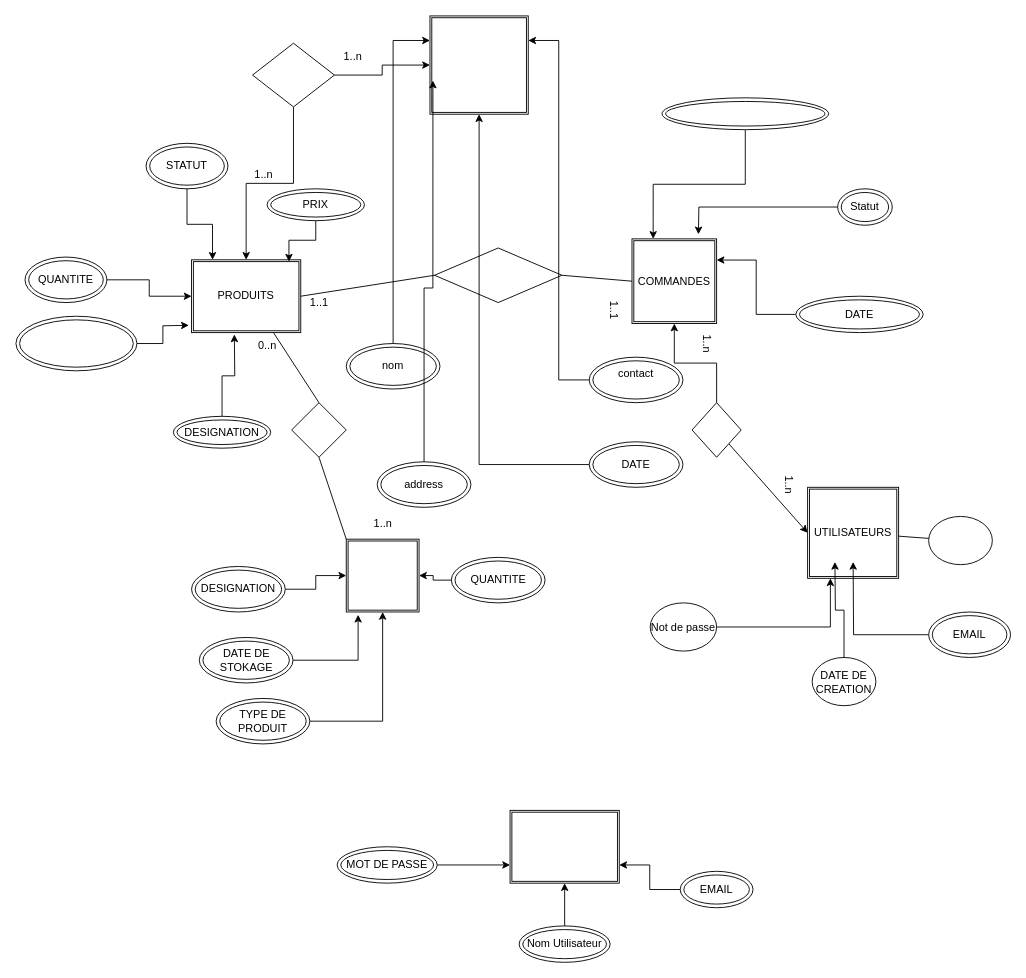
Some shapes in this 1026 by 978 pixel diagram are drawn without their labels. Here are the shapes that lost their labels. From the top down, the box of each, then its label:
(252, 42, 334, 107): FOURNIR
(429, 15, 528, 114): FOURMISSEURS
(661, 97, 829, 130): NUMERO_COMMANDE
(434, 247, 562, 303): COMMANDER
(15, 315, 137, 371): Date de Livraison
(291, 402, 346, 457): STOKER
(691, 402, 741, 457): Passer
(928, 516, 992, 565): Nom d'utilisateur
(345, 538, 419, 612): STOKES
(509, 809, 619, 883): PROPRIO
